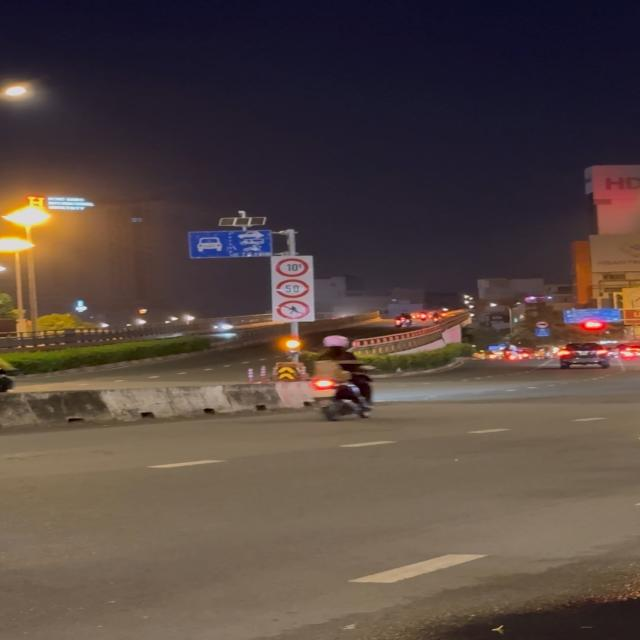Bien bao cam nguoi di bo: (275, 299, 310, 322)
Bien bao toc do toi da cho phep: (275, 278, 309, 299)
